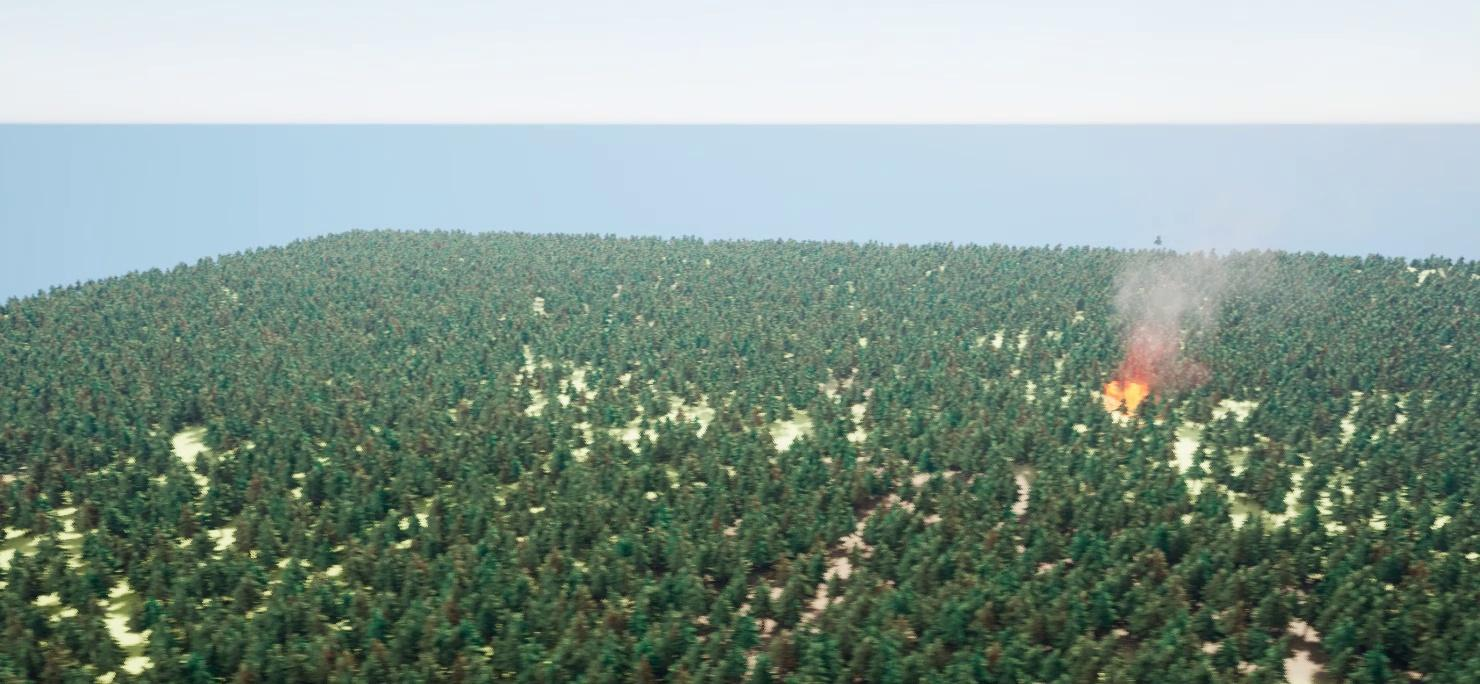fire: (1100, 375, 1148, 418)
smoke: (1118, 229, 1279, 372)
